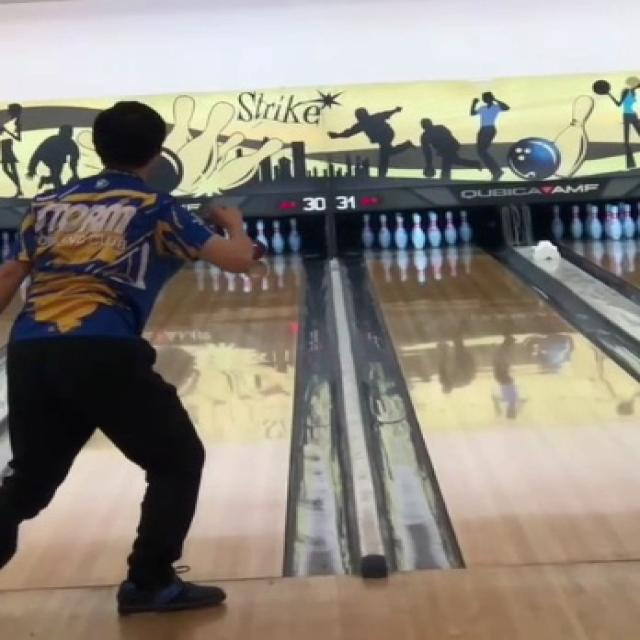alley: (149, 263, 302, 578), (0, 435, 138, 587)
bottle: (250, 217, 298, 254)
